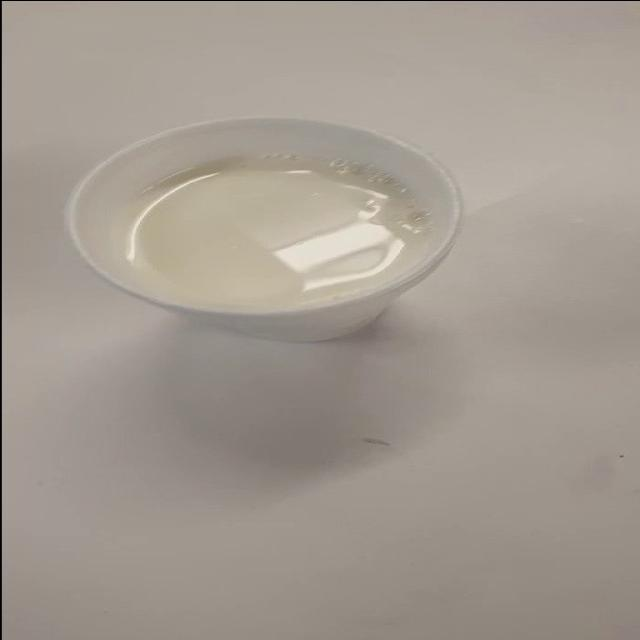Milk: (63, 99, 531, 360)
